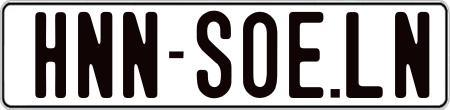0: (241, 11, 277, 98)
E: (289, 10, 326, 96)
H: (35, 12, 68, 102)
L: (344, 9, 386, 97)
N: (75, 11, 113, 103), (122, 11, 158, 100), (392, 11, 427, 101)
S: (195, 10, 231, 99)
